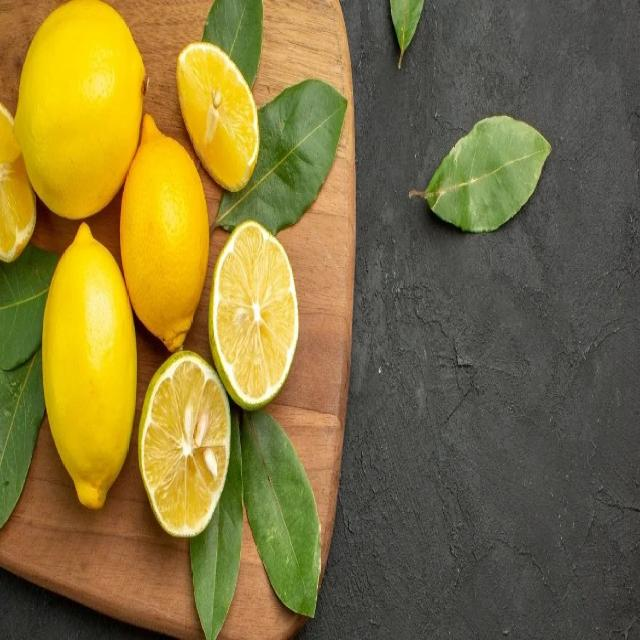lemon: (14, 0, 146, 218), (43, 223, 136, 508), (120, 114, 209, 350), (138, 354, 231, 537), (210, 223, 299, 409), (176, 41, 260, 192), (0, 104, 35, 261)
